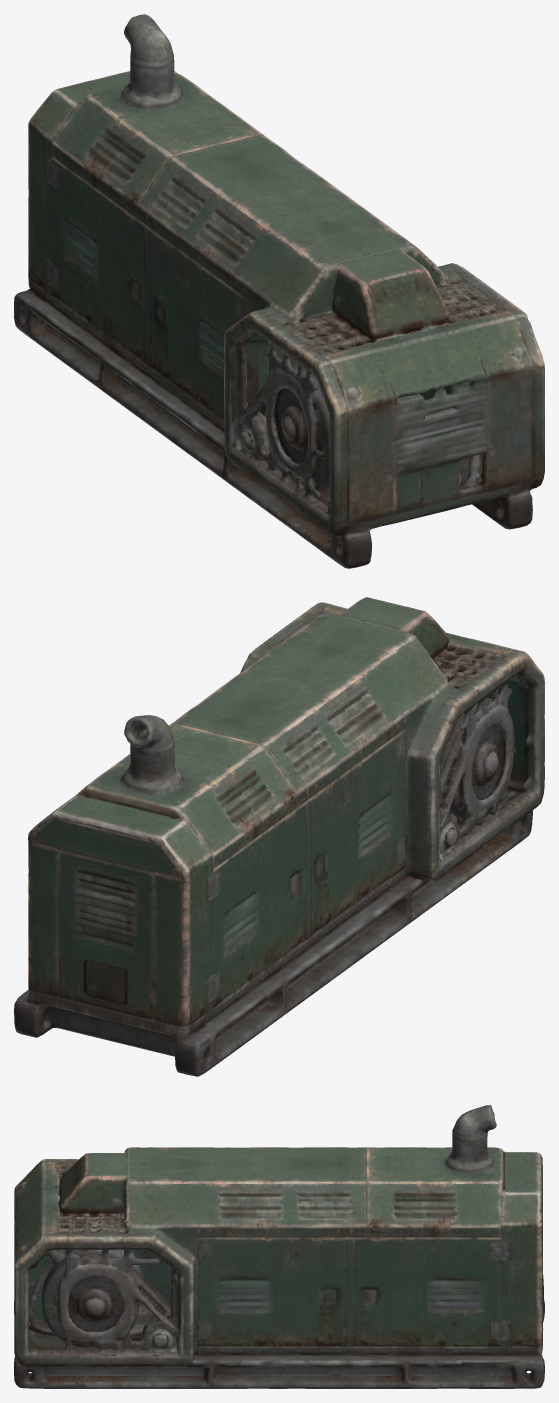
File: bunker_diesel_generator.glb
3 views of the same model, one above another, from view 1: azimuth 30°, elevation 25°; view 2: azimuth 150°, elevation 25°; view 3: azimuth 270°, elevation 25° (orthographic). The views are drawn at different scales.
Size of the model in its own units: 0.3657 by 0.5215 by 1.01.
Materials: 1 (1 with a texture image).
